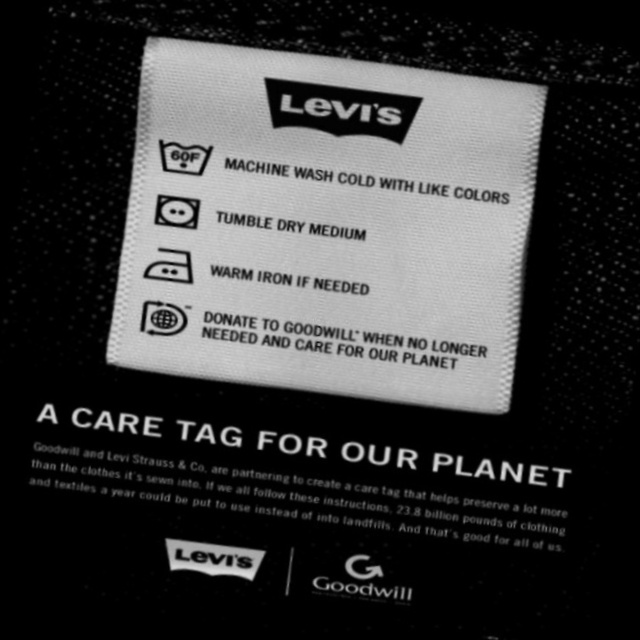30C: (144, 120, 227, 193)
iron_medium: (132, 230, 211, 300)
tumble_dry_medium: (141, 181, 214, 245)
